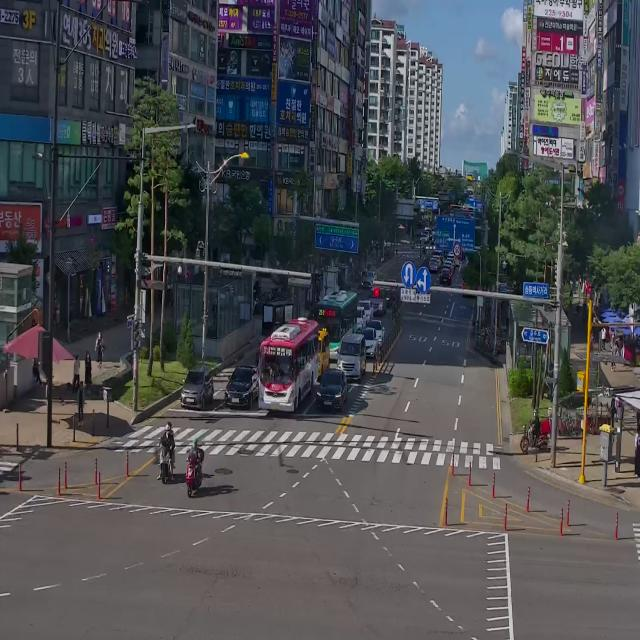Bus: (258, 313, 316, 417), (314, 290, 355, 352)
Car: (224, 364, 259, 409), (336, 331, 364, 387), (180, 368, 214, 409), (316, 368, 348, 411), (316, 326, 330, 372), (362, 331, 378, 370), (371, 314, 388, 347), (372, 288, 386, 317), (361, 296, 372, 325), (355, 306, 365, 337), (440, 266, 452, 287), (429, 258, 439, 274)
Motorcycle: (518, 406, 555, 456), (185, 438, 206, 495), (157, 421, 175, 481)
